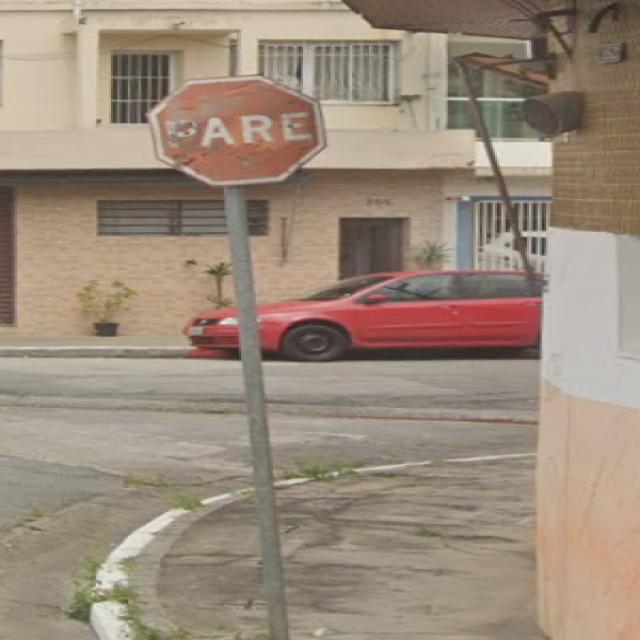stop: (112, 64, 347, 198)
